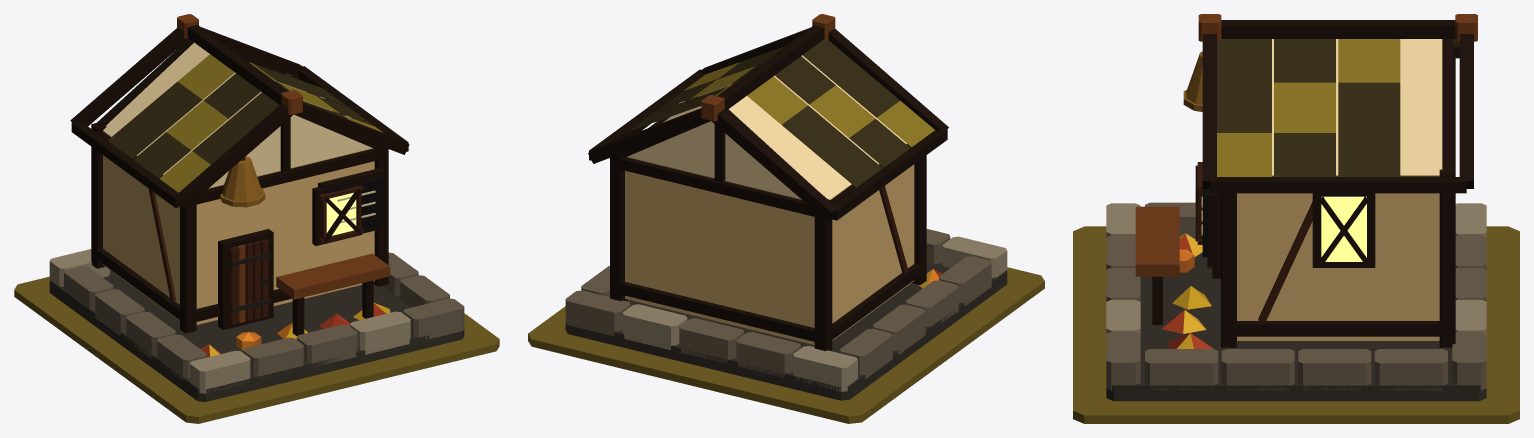
The model's file is schoolroom_t2.glb.
The picture shows the model from 3 angles, left to right: view 1: azimuth 30°, elevation 25°; view 2: azimuth 150°, elevation 25°; view 3: azimuth 270°, elevation 25°; orthographic projection. The views are drawn at different scales.
Parts seen in each view (by area): view 1: MMR | schoolroom | T02 Architecture.001, MMR | schoolroom | Tier 02 Ground.001, MMR | schoolroom | T02 Autumn Dressing.001; view 2: MMR | schoolroom | T02 Architecture.001, MMR | schoolroom | Tier 02 Ground.001; view 3: MMR | schoolroom | T02 Architecture.001, MMR | schoolroom | Tier 02 Ground.001, MMR | schoolroom | T02 Autumn Dressing.001.
Part boxes in pixels (x1=…): MMR | schoolroom | T02 Architecture.001: x1=49, y1=14, x2=464, y2=401; MMR | schoolroom | Tier 02 Ground.001: x1=14, y1=276, x2=499, y2=423; MMR | schoolroom | T02 Autumn Dressing.001: x1=201, y1=303, x2=390, y2=357; MMR | schoolroom | T02 Architecture.001: x1=565, y1=14, x2=1007, y2=400; MMR | schoolroom | Tier 02 Ground.001: x1=528, y1=267, x2=1044, y2=423; MMR | schoolroom | T02 Architecture.001: x1=1106, y1=14, x2=1486, y2=401; MMR | schoolroom | Tier 02 Ground.001: x1=1073, y1=226, x2=1519, y2=423; MMR | schoolroom | T02 Autumn Dressing.001: x1=1162, y1=233, x2=1213, y2=348.
Size of the model in its own units: 2.35 by 1.8 by 2.35.
2 materials, 1 textured.
